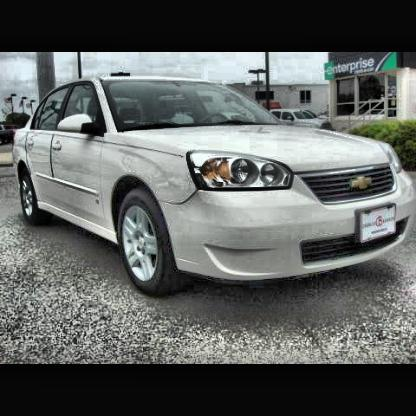Chevrolet Malibu Sedan 2007: (14, 78, 416, 298)
